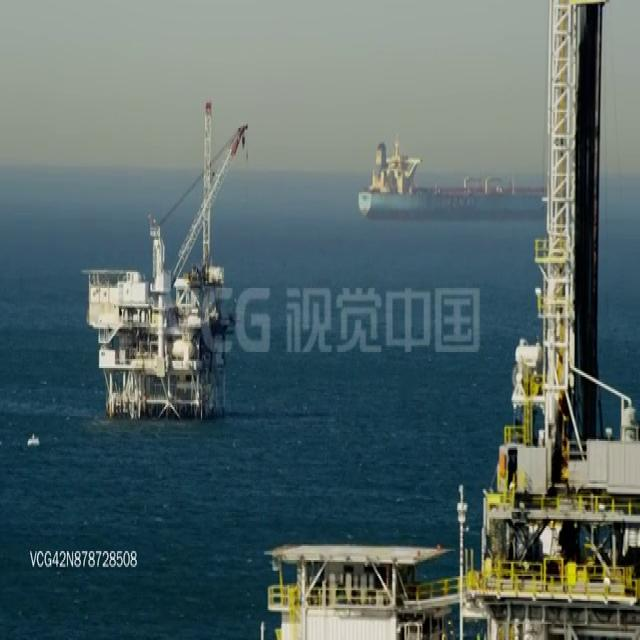cargoship: (355, 137, 547, 220)
